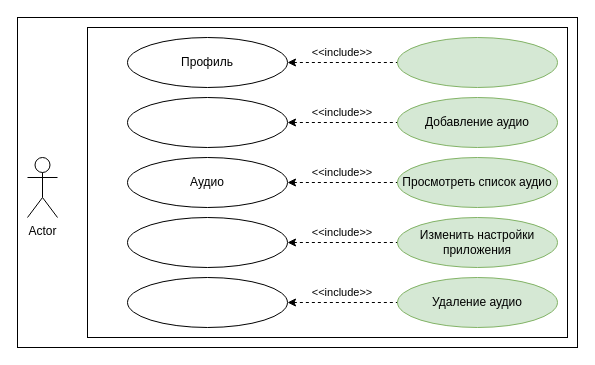
Some shapes in this 595 by 365 pixel diagram are drawn without their labels. The centre of each missing label's shape, as x and y in pixels:
"Добавить" belongs at point (207, 122).
"Настройки" belongs at point (207, 242).
"Отображение информации профиля" belongs at point (477, 62).
"Удалить" belongs at point (207, 302).
